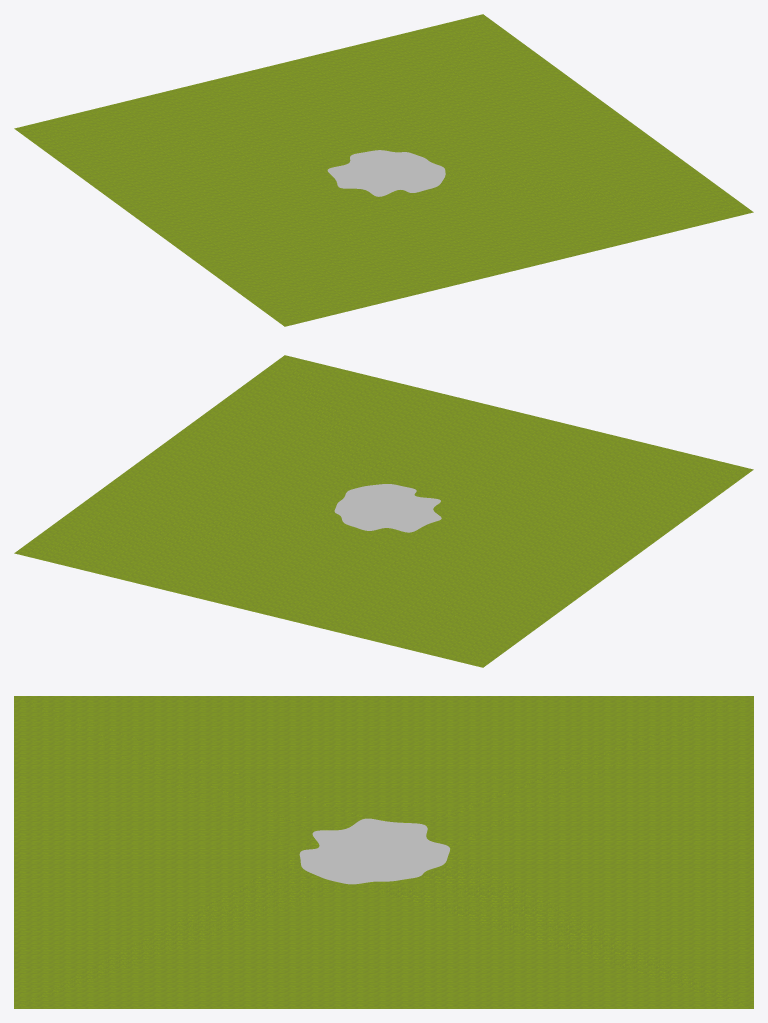
Rendered from Terrain.fbx.
3 renders of one model, top to bottom at view 1: azimuth 30°, elevation 25°; view 2: azimuth 150°, elevation 25°; view 3: azimuth 270°, elevation 25°, orthographic. The views are drawn at different scales.
Visible parts, largest first — view 1: Plane; view 2: Plane; view 3: Plane.
Part boxes in pixels (<box>): Plane: <box>14,14,753,326</box>; Plane: <box>14,355,753,667</box>; Plane: <box>14,696,753,1008</box>.
Size of the model in its own units: 43.86 by 0 by 43.86.
